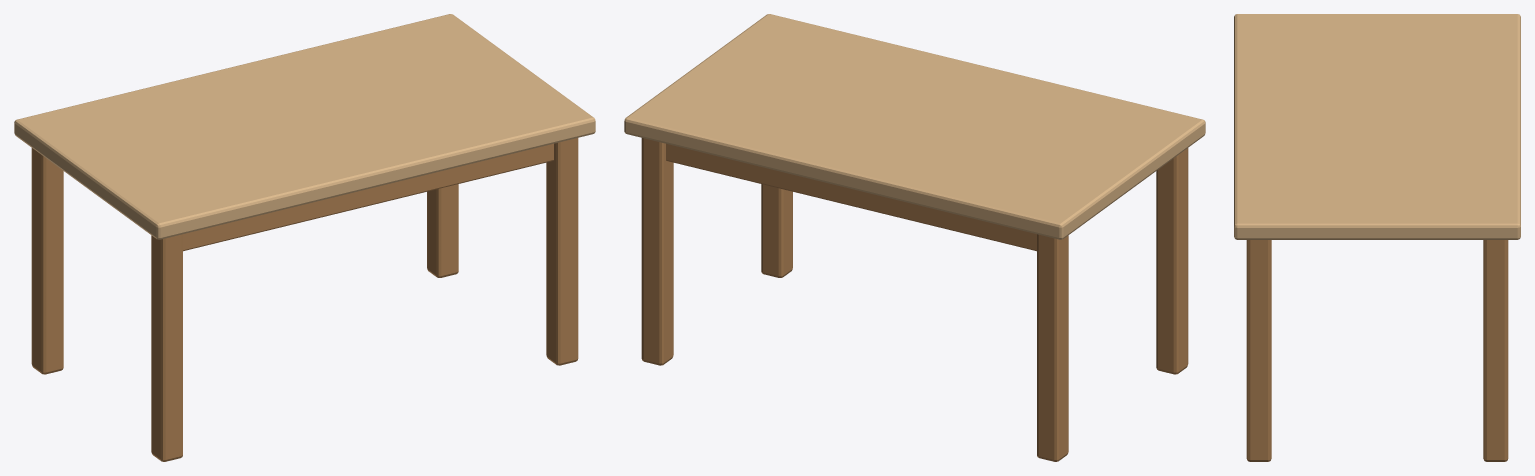
Rendered from dining_table.glb.
3 renders of one model, left to right at view 1: azimuth 30°, elevation 25°; view 2: azimuth 150°, elevation 25°; view 3: azimuth 270°, elevation 25°, orthographic.
Visible parts, largest first — view 1: Table_Top, Table_Leg.002, Table_Leg, Table_Leg.001, Table_Rail, Table_Leg.003; view 2: Table_Top, Table_Leg.003, Table_Leg.001, Table_Leg, Table_Rail.001, Table_Leg.002; view 3: Table_Top, Table_Leg.002, Table_Leg.003.
Boxes of the visible parts, x1,y1,x2,y2 form: Table_Top: (14, 14, 595, 239); Table_Leg.002: (546, 138, 578, 365); Table_Leg: (151, 234, 182, 461); Table_Leg.001: (31, 148, 63, 374); Table_Rail: (183, 143, 553, 251); Table_Leg.003: (427, 184, 458, 277); Table_Top: (624, 14, 1205, 239); Table_Leg.003: (641, 138, 673, 365); Table_Leg.001: (1037, 234, 1068, 461); Table_Leg: (1156, 148, 1188, 374); Table_Rail.001: (666, 143, 1036, 251); Table_Leg.002: (761, 184, 792, 277); Table_Top: (1234, 14, 1520, 239); Table_Leg.002: (1246, 240, 1271, 461); Table_Leg.003: (1483, 240, 1508, 461).
Bounding box in the file's own units: 1.4 × 0.75 × 0.8.
